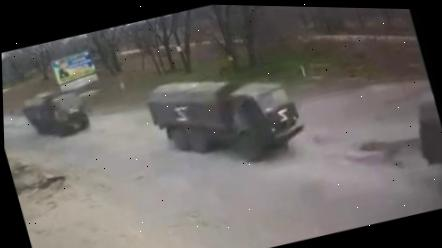truck: (139, 52, 311, 184), (18, 81, 92, 145)
